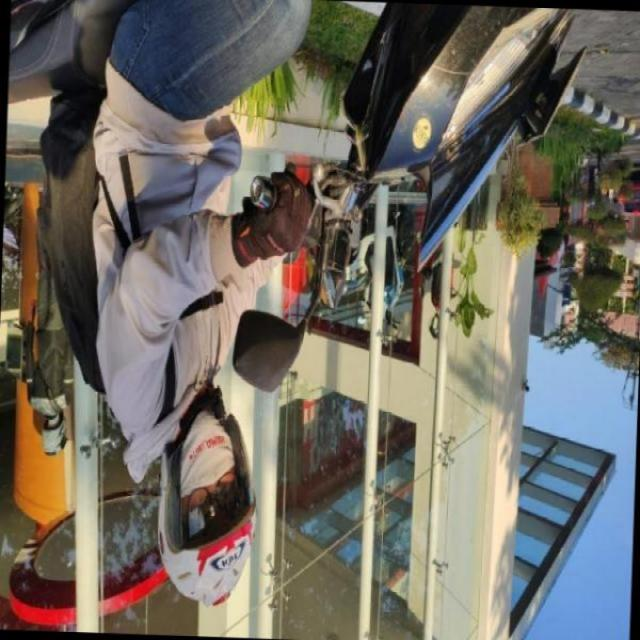Helmet: (149, 409, 286, 587)
